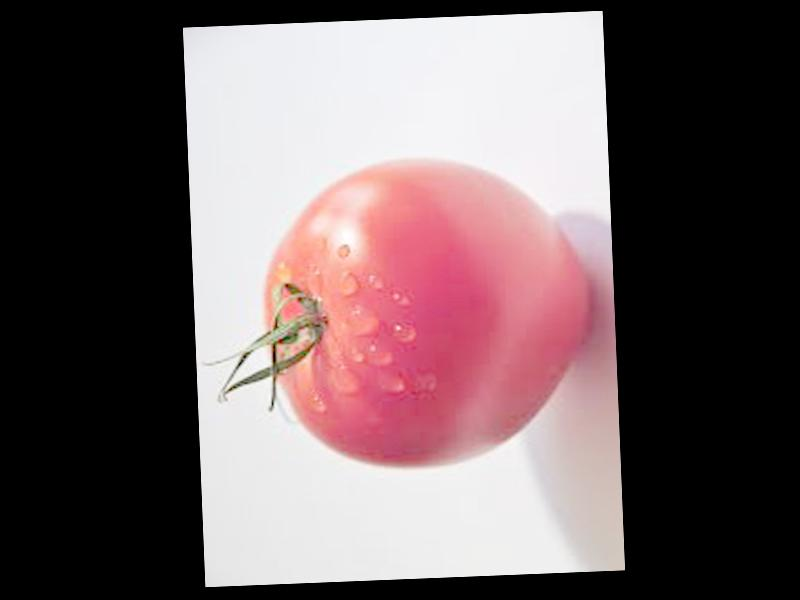Tomato: (262, 151, 595, 472)
